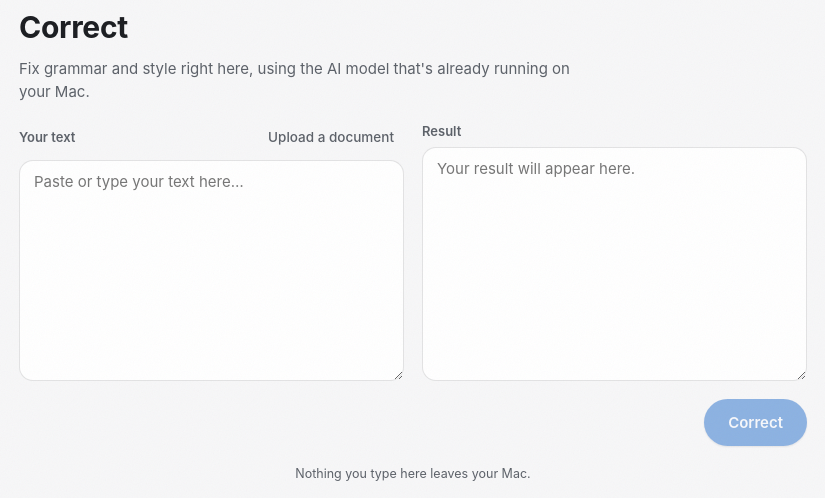
Test case: WritingToolsScreen while a chat reply is running › can be cancelled while it waits, without reaching the model
Type "fixd text" into the text box labelled "Your text" at (212, 270), box top-left (19, 160), bottom-right (404, 381)
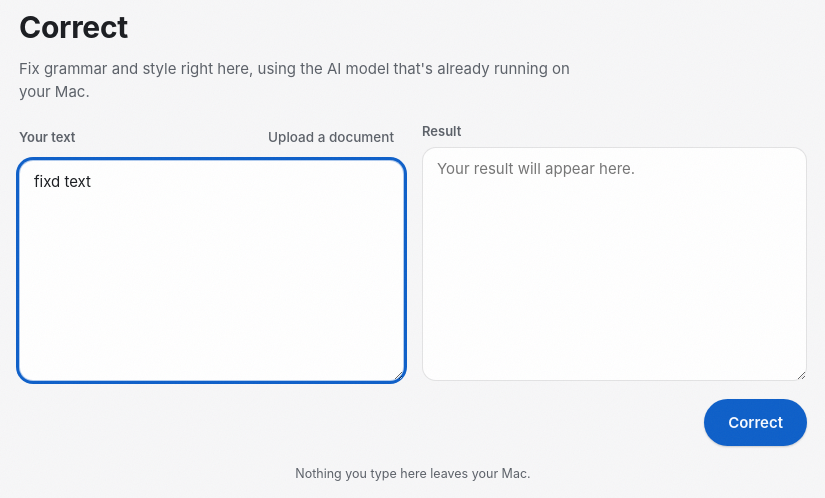
Click the button "Correct" at (756, 423), box top-left (704, 399), bottom-right (807, 446)
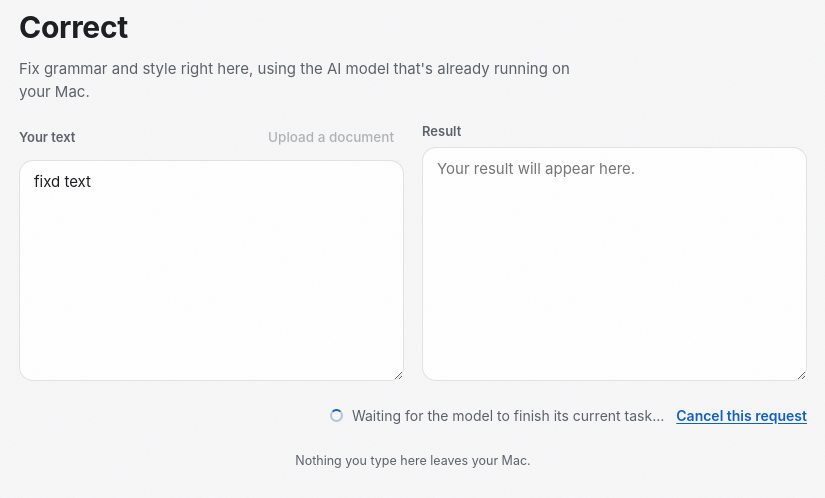
Click the button "Cancel this request" at (742, 416), box top-left (676, 405), bottom-right (807, 427)
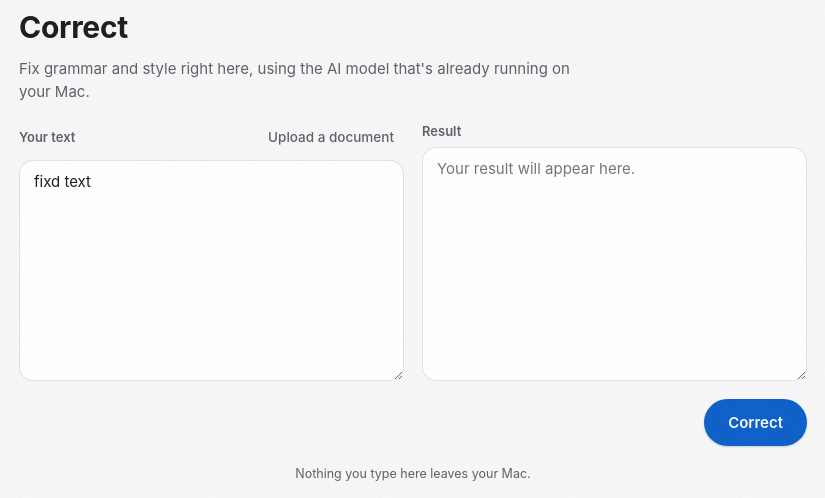
Now the button "Correct" is enabled, box top-left (704, 399), bottom-right (807, 446)
